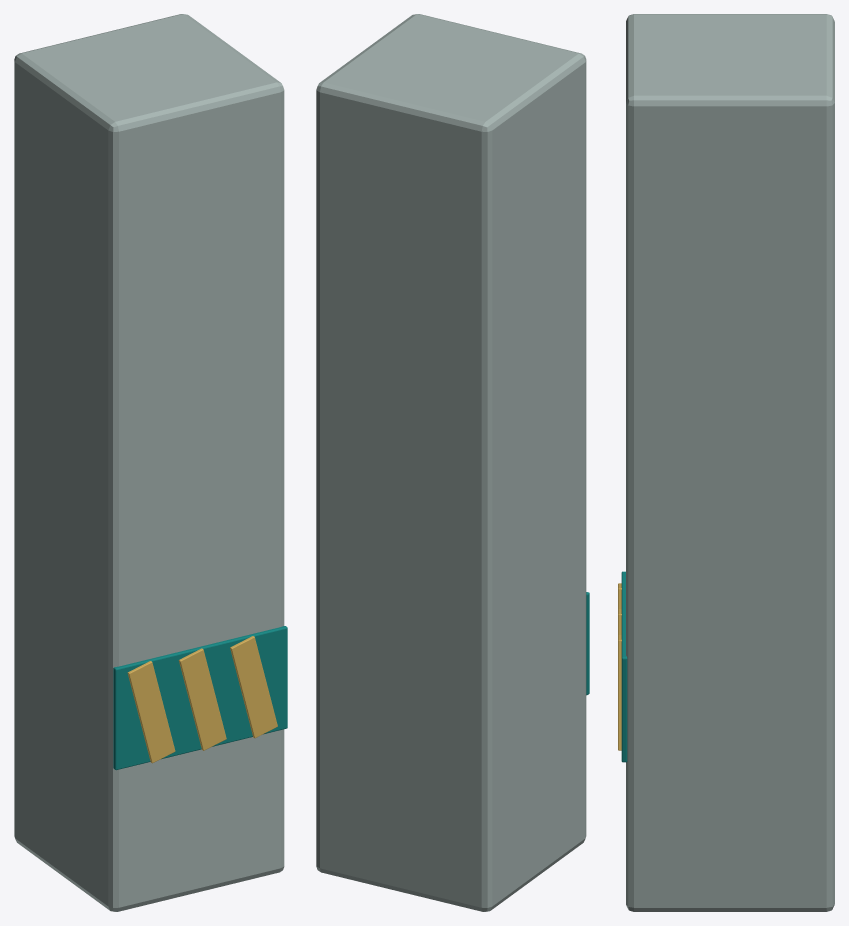
Rendered from Parking_Pillar.fbx.
3 views of the same model, side by side, from view 1: azimuth 30°, elevation 25°; view 2: azimuth 150°, elevation 25°; view 3: azimuth 270°, elevation 25° (orthographic). The views are drawn at different scales.
Visible parts, largest first — view 1: Parking_Pillar_Mesh; view 2: Parking_Pillar_Mesh; view 3: Parking_Pillar_Mesh.
Boxes of the visible parts, x1=… form: Parking_Pillar_Mesh: x1=14, y1=14, x2=287, y2=911; Parking_Pillar_Mesh: x1=316, y1=14, x2=589, y2=911; Parking_Pillar_Mesh: x1=618, y1=14, x2=834, y2=911.
Size of the model in its own units: 0.65 by 2.8 by 0.674.
1 material, 1 textured.
